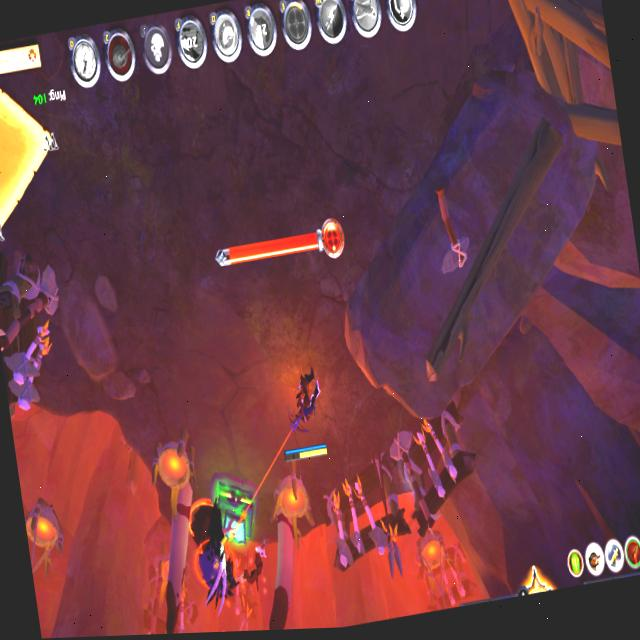ore: (158, 468, 278, 634)
red: (270, 353, 335, 472)
